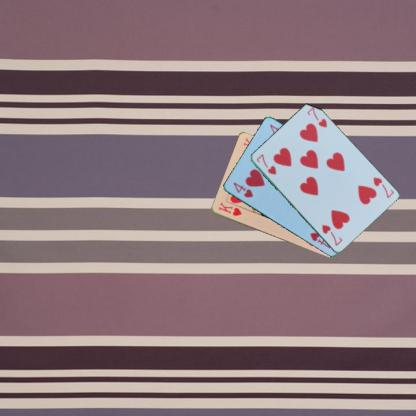4h: (231, 180, 254, 198)
7h: (370, 174, 395, 200), (254, 151, 278, 176)
Kh: (216, 200, 243, 218)
